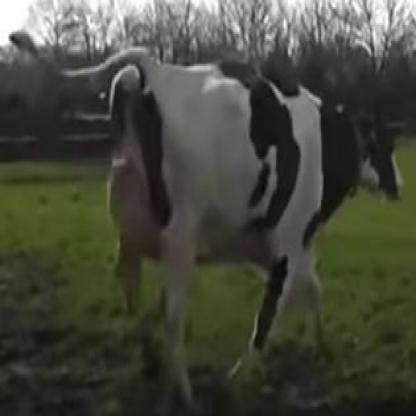cow: (11, 30, 404, 407)
